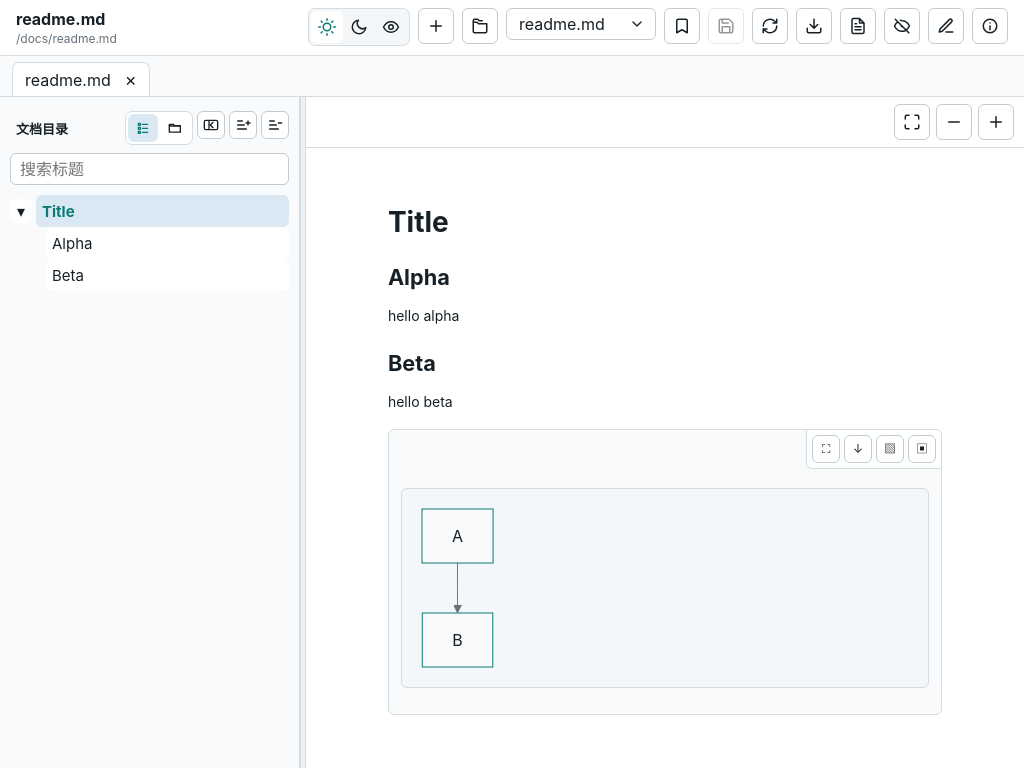
Test: App › shows editor line and cursor position in the editor status bar
Click the button with test id "toggle-editor": [946, 26] box [928, 8, 964, 44]
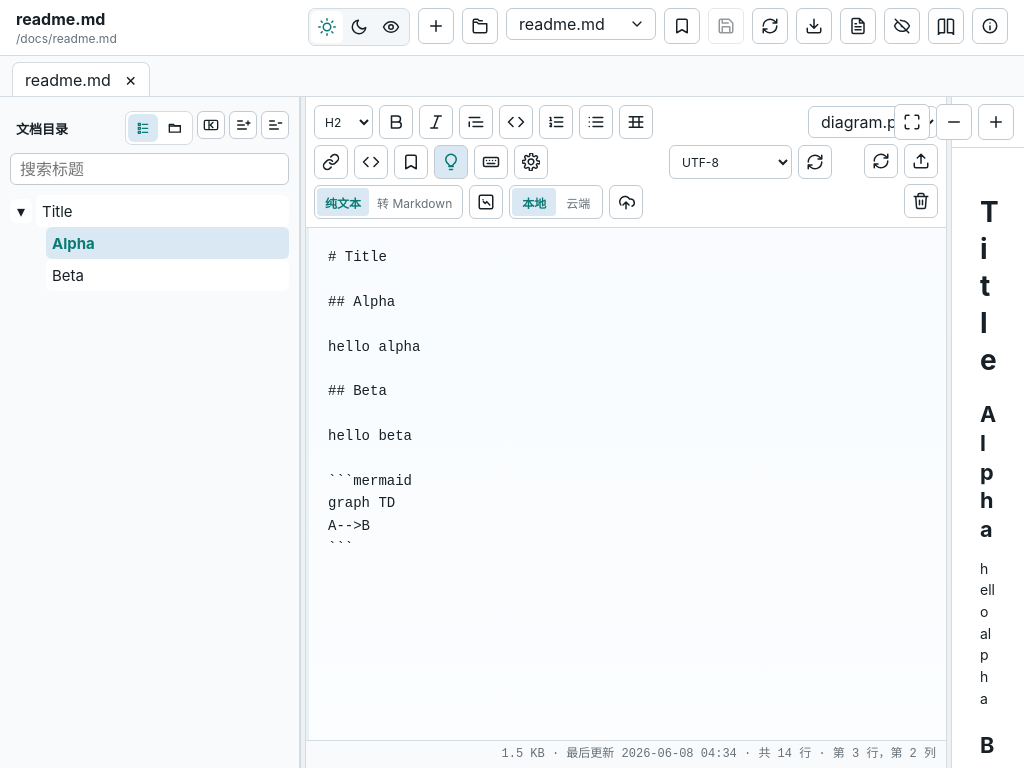
Check: the element with test id "editor-statusbar" shows "共 14 行", box [502, 747, 936, 761]
Check: the element with test id "editor-statusbar" shows "第 3 行，第 2 列", box [502, 747, 936, 761]
